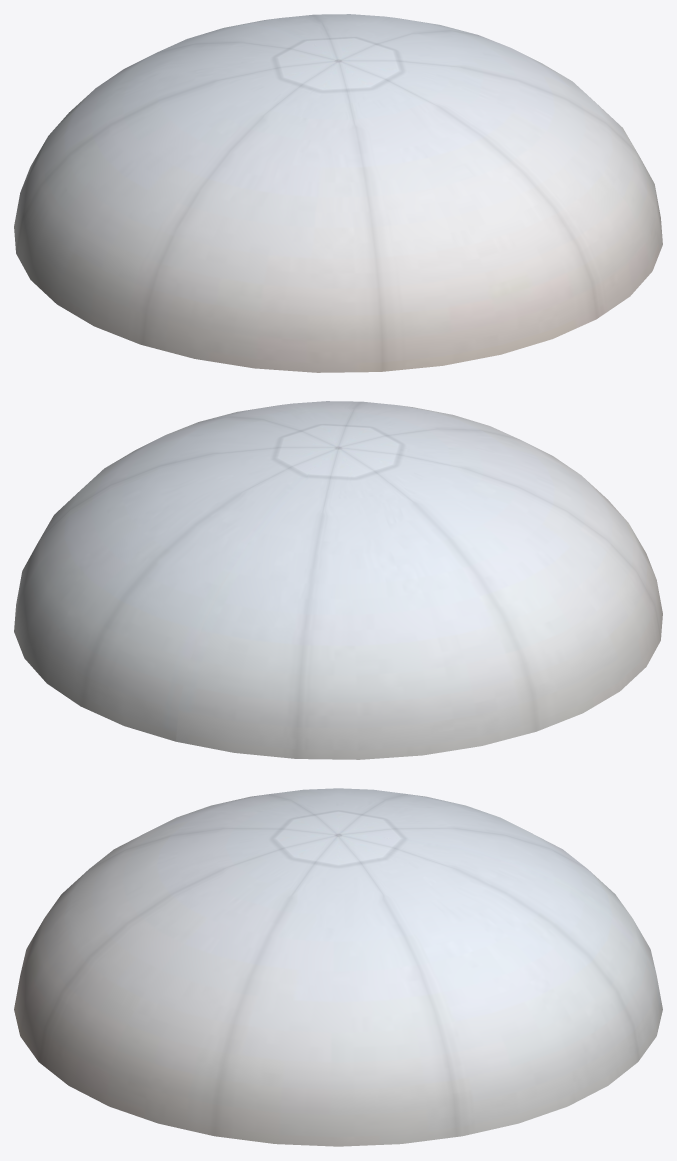
The model's file is tophabitat.glb.
3 renders of one model, top to bottom at view 1: azimuth 30°, elevation 25°; view 2: azimuth 150°, elevation 25°; view 3: azimuth 270°, elevation 25°, orthographic.
Parts seen in each view (by area): view 1: HDU_lowRez_part1.005; view 2: HDU_lowRez_part1.005; view 3: HDU_lowRez_part1.005.
Part boxes in pixels (x1,y1,x2,y2): HDU_lowRez_part1.005: (14, 14, 662, 372); HDU_lowRez_part1.005: (14, 401, 662, 759); HDU_lowRez_part1.005: (14, 788, 662, 1146).
Bounding box in the file's own units: 3.94 × 1.17 × 3.94.
1 material, 1 textured.
